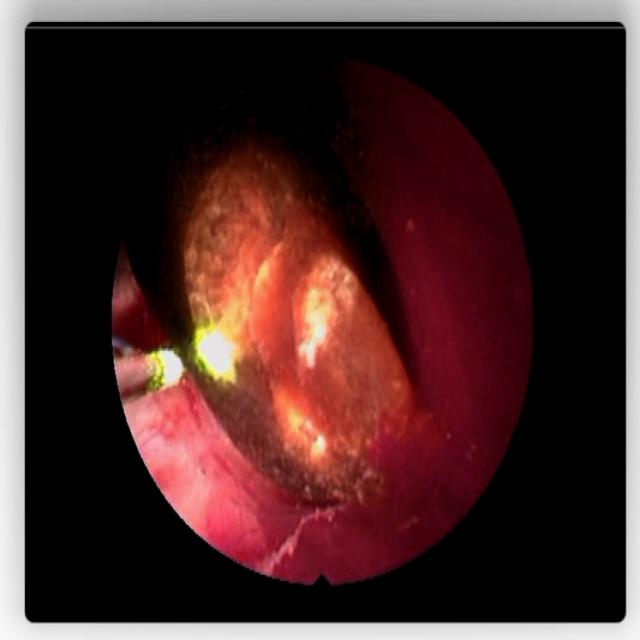stone: (126, 105, 428, 505)
